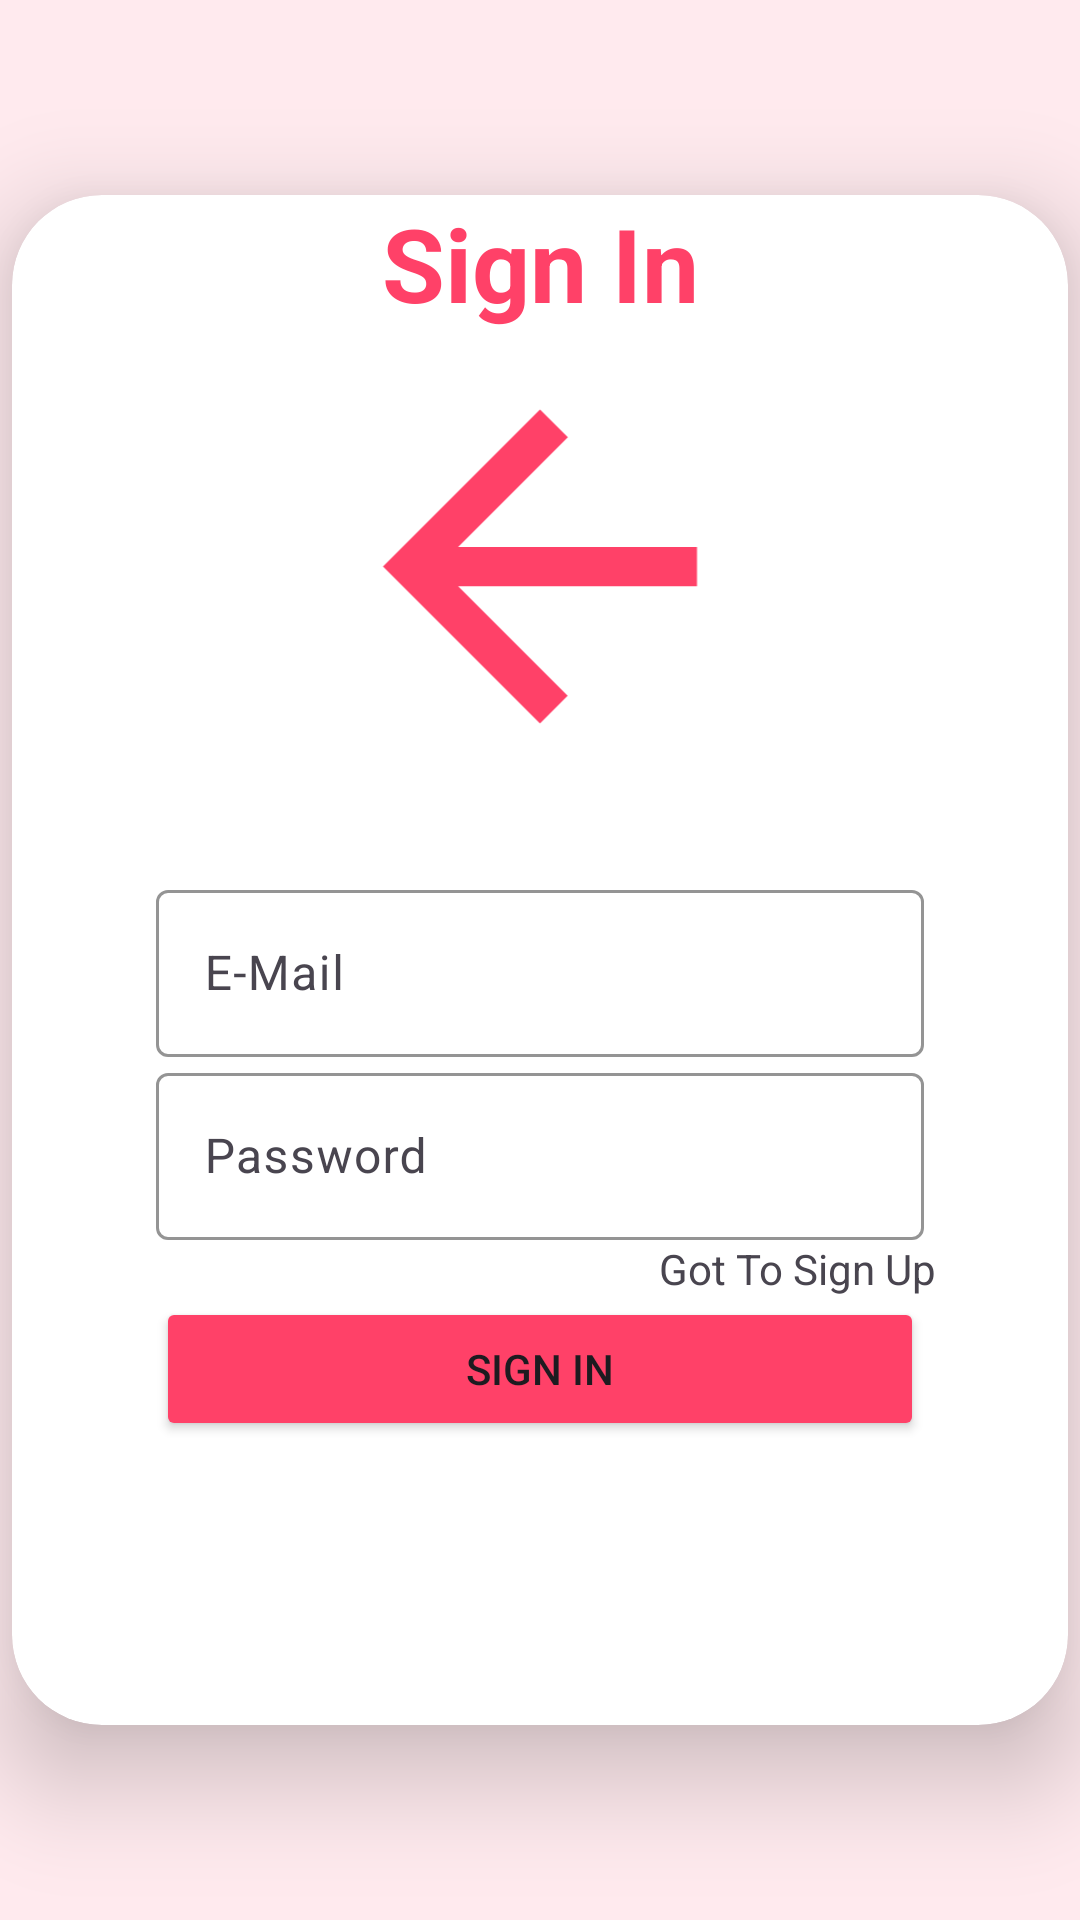

Icons on this 1080px x 1920px Android screen, each with its box as box=[x1, y1, x2, y2]:
back: box=[383, 410, 698, 723]
